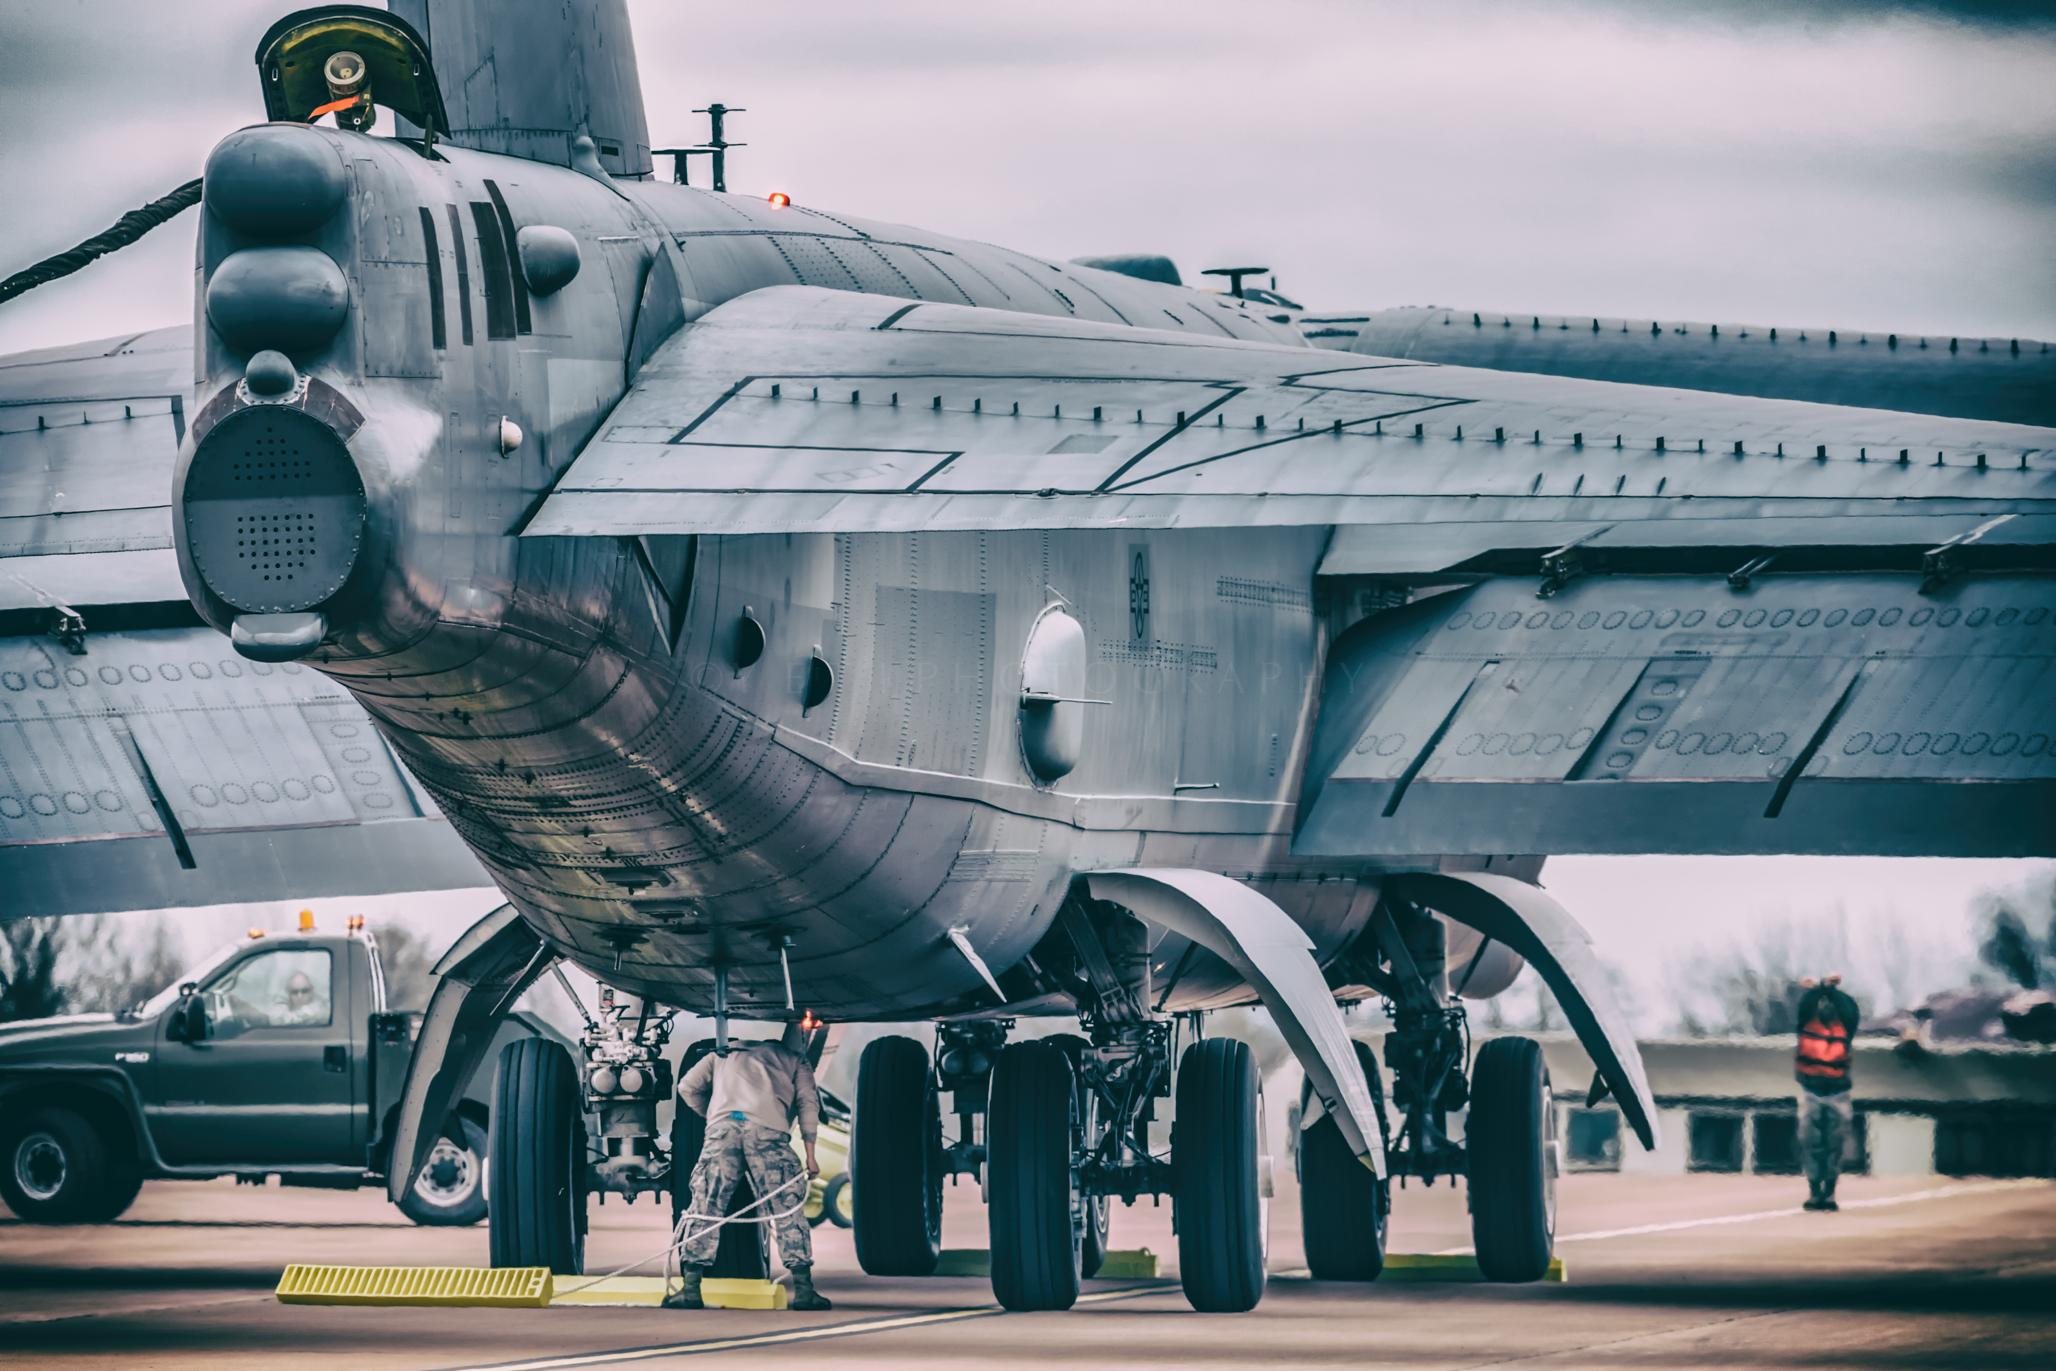B52: (2, 2, 2056, 1313)
